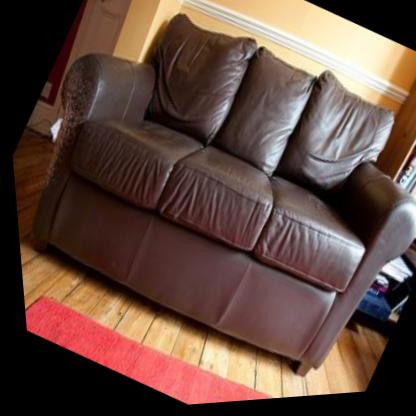Carpet: (20, 297, 269, 407)
Sofa: (0, 0, 416, 416)
